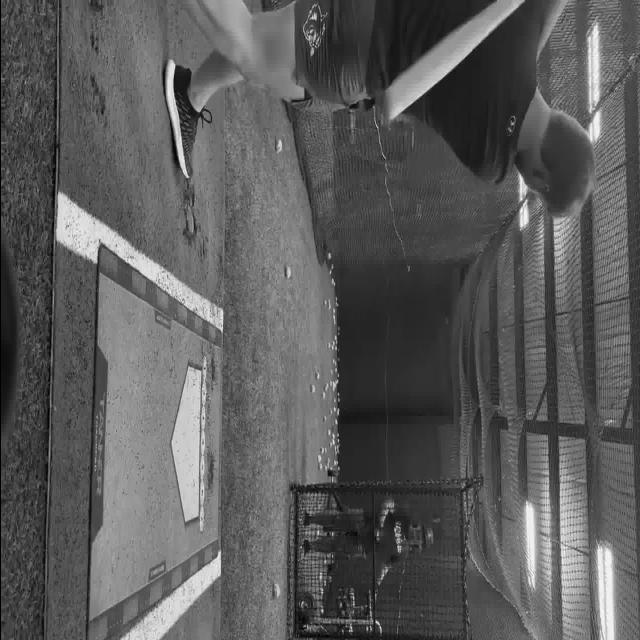base: (174, 366, 202, 524)
baseball: (272, 582, 280, 599), (274, 138, 282, 152), (284, 265, 290, 278), (310, 383, 314, 392), (314, 372, 318, 379)
shoe: (162, 58, 208, 178), (297, 537, 310, 561), (304, 510, 310, 526)
